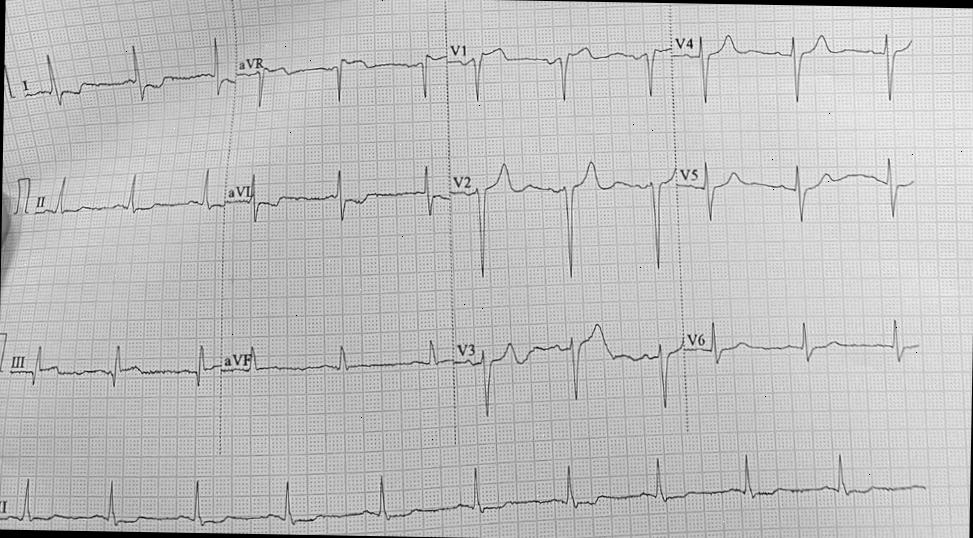Lead_I: (15, 32, 238, 116)
Lead_II: (30, 161, 224, 234)
Lead_III: (5, 332, 223, 405)
Lead_II_ext: (0, 429, 943, 538)
Lead_V1: (444, 27, 672, 114)
Lead_V2: (443, 146, 680, 292)
Lead_V3: (454, 302, 686, 430)
Lead_V4: (667, 9, 918, 125)
Lead_V5: (672, 144, 928, 232)
Lead_V6: (680, 303, 928, 382)
Lead_aVF: (217, 333, 458, 393)
Lead_aVL: (221, 162, 450, 232)
Lead_aVR: (232, 35, 447, 119)
